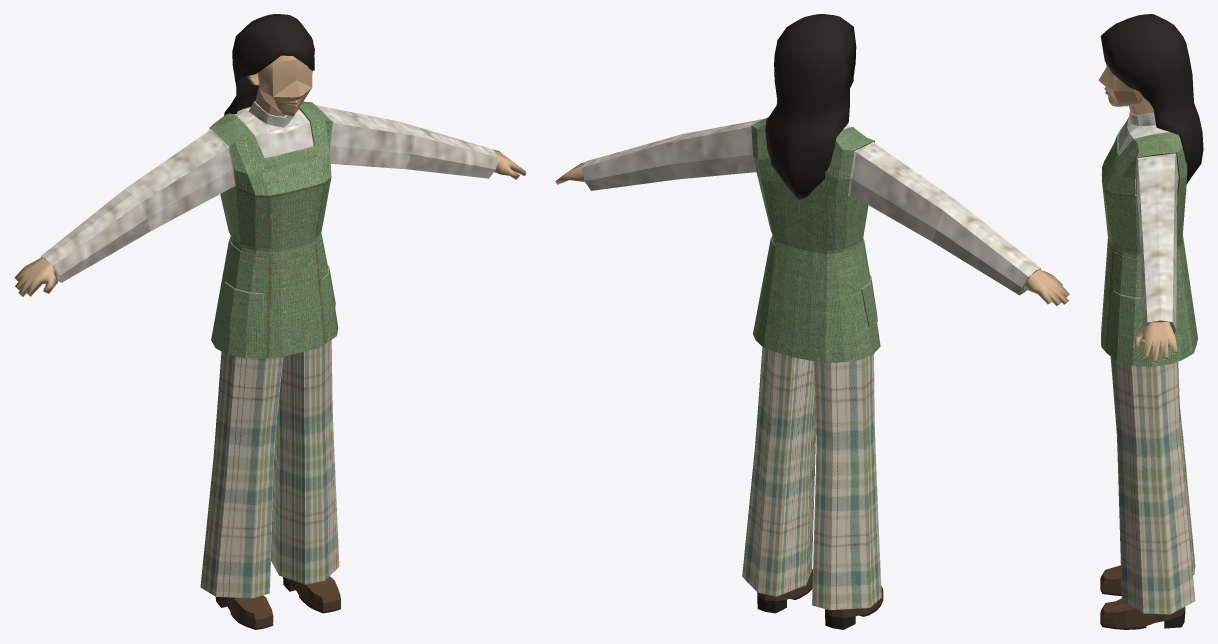
Rendered from libriran_Tpose.fbx.
3 views of the same model, side by side, from view 1: azimuth 30°, elevation 25°; view 2: azimuth 150°, elevation 25°; view 3: azimuth 270°, elevation 25° (orthographic).
Visible parts, largest first — view 1: Cube, Cylinder, Sphere.001, Cube.001, Plane.001, hand; view 2: Cube, Cylinder, Sphere.001, Cube.001, hand; view 3: Cube, Cylinder, Sphere.001, Cube.001, hand, Plane.001.
Boxes of the visible parts, <box> form: Cube: <box>40,86,498,358</box>; Cylinder: <box>200,340,339,598</box>; Sphere.001: <box>224,14,314,115</box>; Cube.001: <box>215,576,340,629</box>; Plane.001: <box>257,55,312,116</box>; hand: <box>14,149,526,296</box>; Cube: <box>581,117,1040,362</box>; Cylinder: <box>742,347,881,610</box>; Sphere.001: <box>765,14,856,199</box>; Cube.001: <box>757,569,883,629</box>; hand: <box>555,162,1069,306</box>; Cube: <box>1101,97,1197,366</box>; Cylinder: <box>1110,356,1195,614</box>; Sphere.001: <box>1100,14,1203,183</box>; Cube.001: <box>1100,565,1185,629</box>; hand: <box>1133,322,1177,362</box>; Plane.001: <box>1098,63,1143,106</box>.
Size of the model in its own units: 233 by 259 by 41.86.
Materials: 10 (3 with a texture image).
